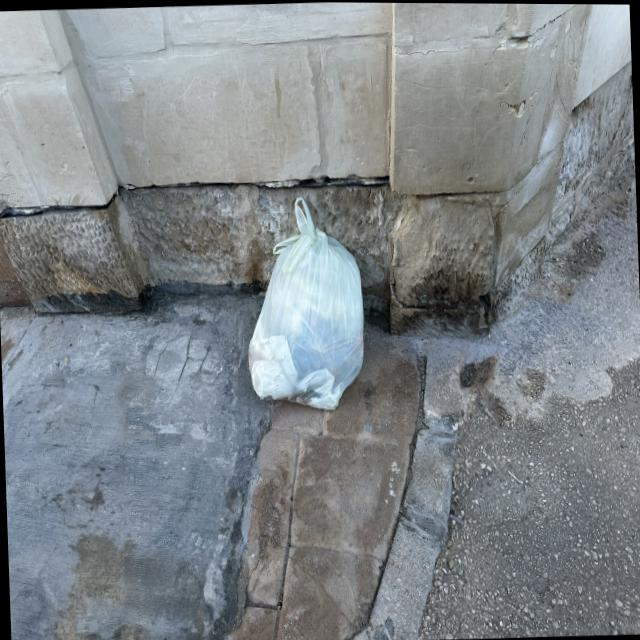Organic Waste -White Bags-: (249, 196, 363, 410)
